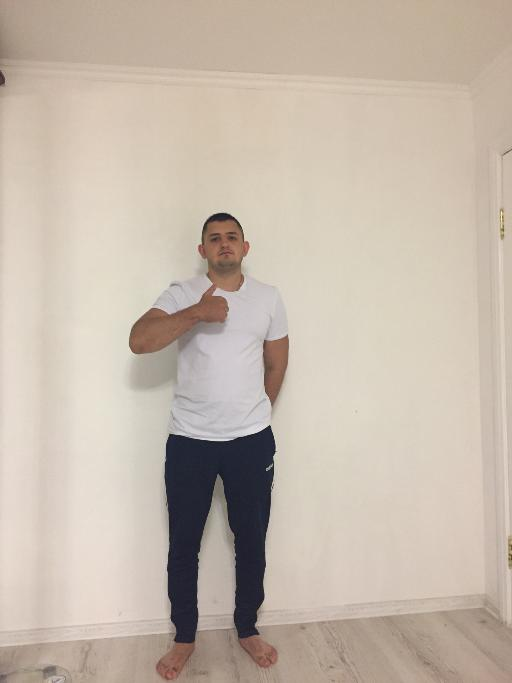like: (195, 282, 229, 325)
